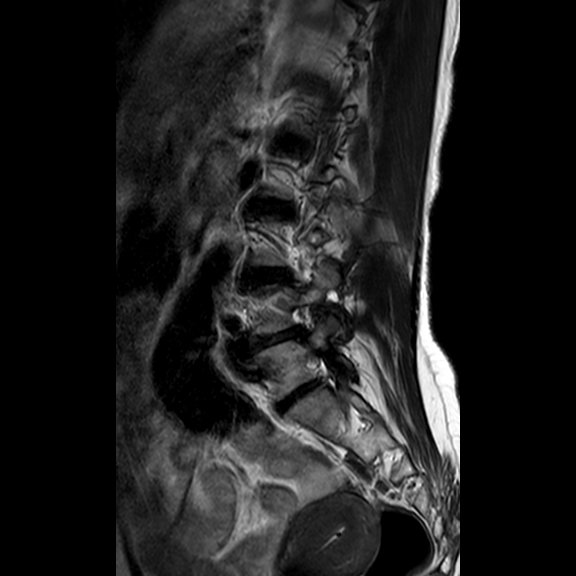LFS1: (282, 293, 325, 344)
